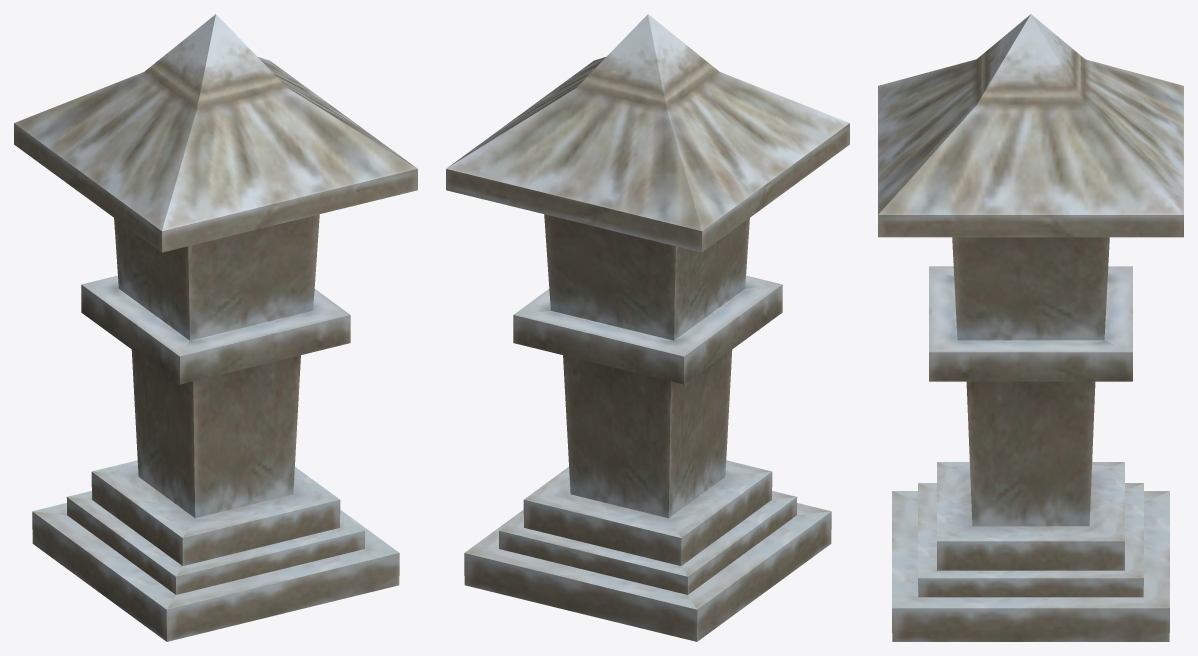
The picture shows the model from 3 angles, left to right: view 1: azimuth 30°, elevation 25°; view 2: azimuth 150°, elevation 25°; view 3: azimuth 270°, elevation 25°; orthographic projection. The views are drawn at different scales.
Parts seen in each view (by area): view 1: M5_P_ta1; view 2: M5_P_ta1; view 3: M5_P_ta1.
Part boxes in pixels (<box>): M5_P_ta1: <box>14,14,417,641</box>; M5_P_ta1: <box>446,14,849,641</box>; M5_P_ta1: <box>878,14,1183,641</box>.
Bounding box in the file's own units: 58.29 × 120 × 58.29.
